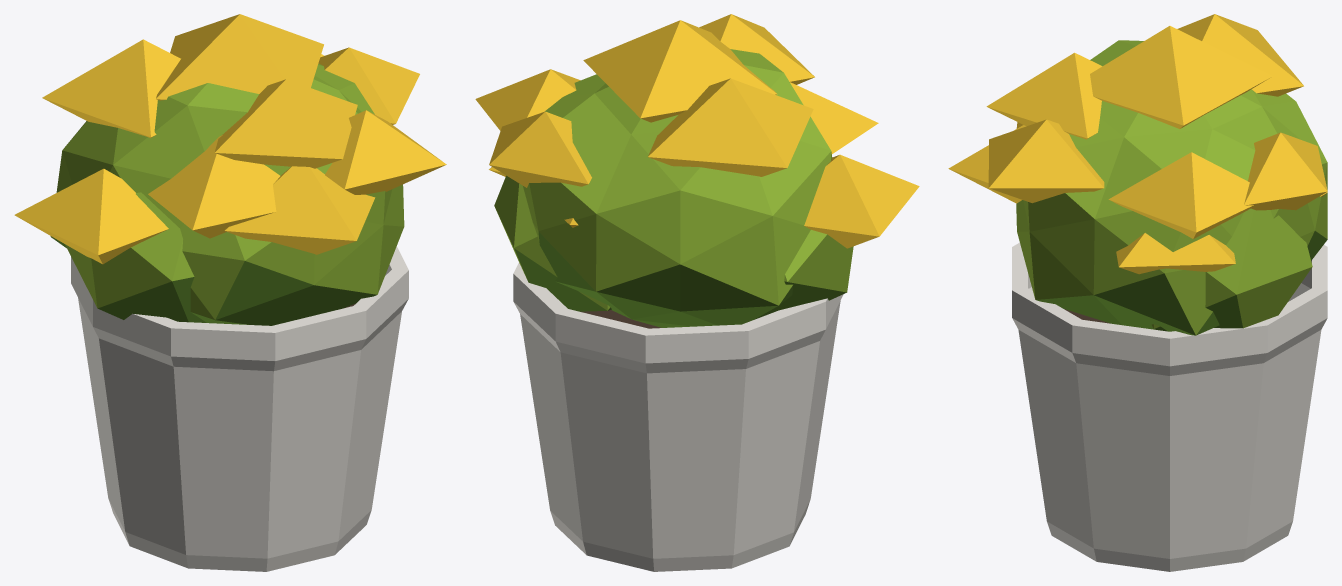
The model's file is SM_Street_Pot_RoundWhite_No4_FlowerYellow_01.gltf.
3 views of the same model, side by side, from view 1: azimuth 30°, elevation 25°; view 2: azimuth 150°, elevation 25°; view 3: azimuth 270°, elevation 25° (orthographic). The views are drawn at different scales.
Parts seen in each view (by area): view 1: SM_Street_Pot_RoundWhite_No4_FlowerYellow_01; view 2: SM_Street_Pot_RoundWhite_No4_FlowerYellow_01; view 3: SM_Street_Pot_RoundWhite_No4_FlowerYellow_01.
Boxes of the visible parts, box(x1,y1,x2,y2) form: SM_Street_Pot_RoundWhite_No4_FlowerYellow_01: box(14, 14, 446, 571); SM_Street_Pot_RoundWhite_No4_FlowerYellow_01: box(475, 14, 919, 571); SM_Street_Pot_RoundWhite_No4_FlowerYellow_01: box(948, 14, 1327, 571).
Size of the model in its own units: 0.1662 by 0.1969 by 0.1372.
1 material, 1 textured.
